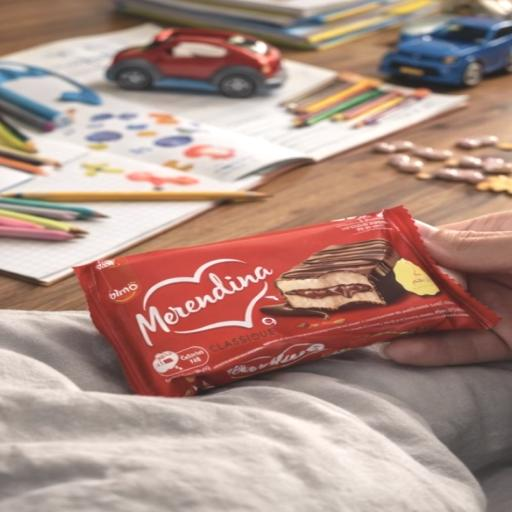merendina: (65, 196, 512, 392)
